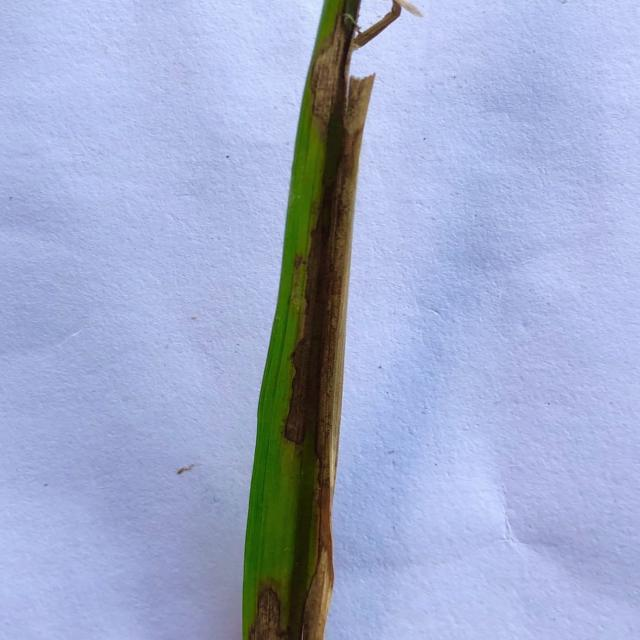leaf blight: (307, 0, 423, 139)
